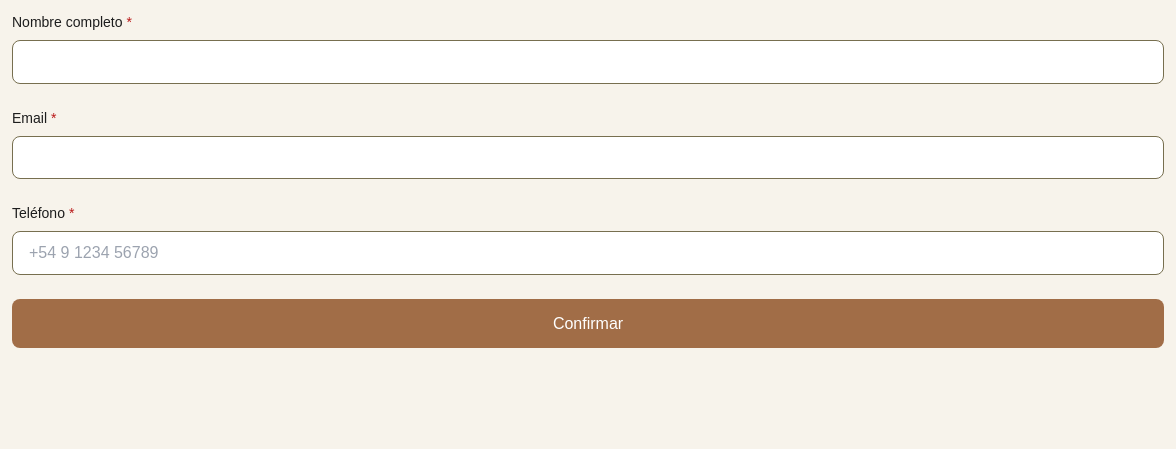
Test case: ContactForm › validates phone number
Type "123" into the field labelled "Teléfono*" at (588, 253), box [12, 231, 1164, 275]
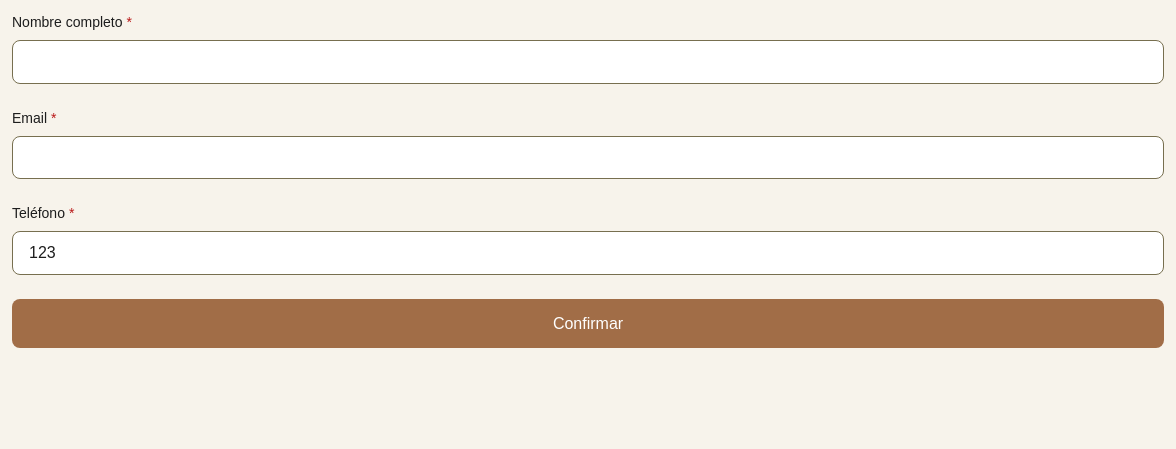
Click the button "Confirmar" at (588, 324), box [12, 299, 1164, 348]
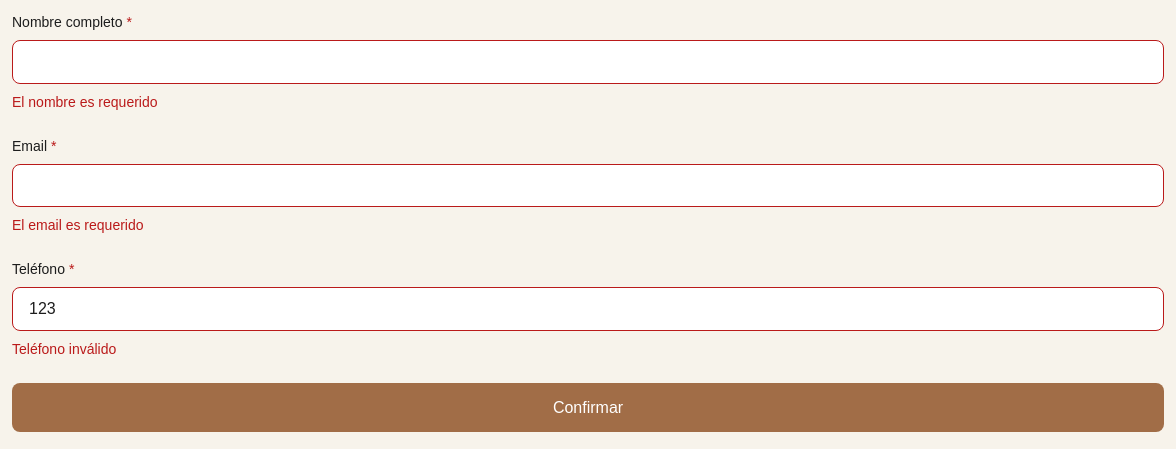
Now the text "Teléfono inválido" is shown, box [12, 341, 116, 357]
